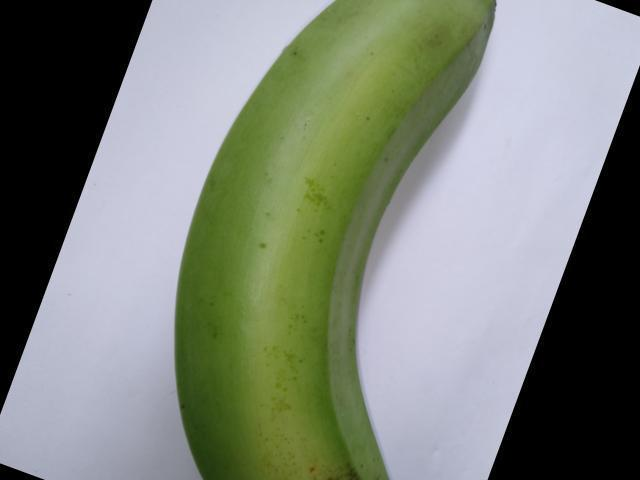freshunripe: (153, 0, 513, 479)
